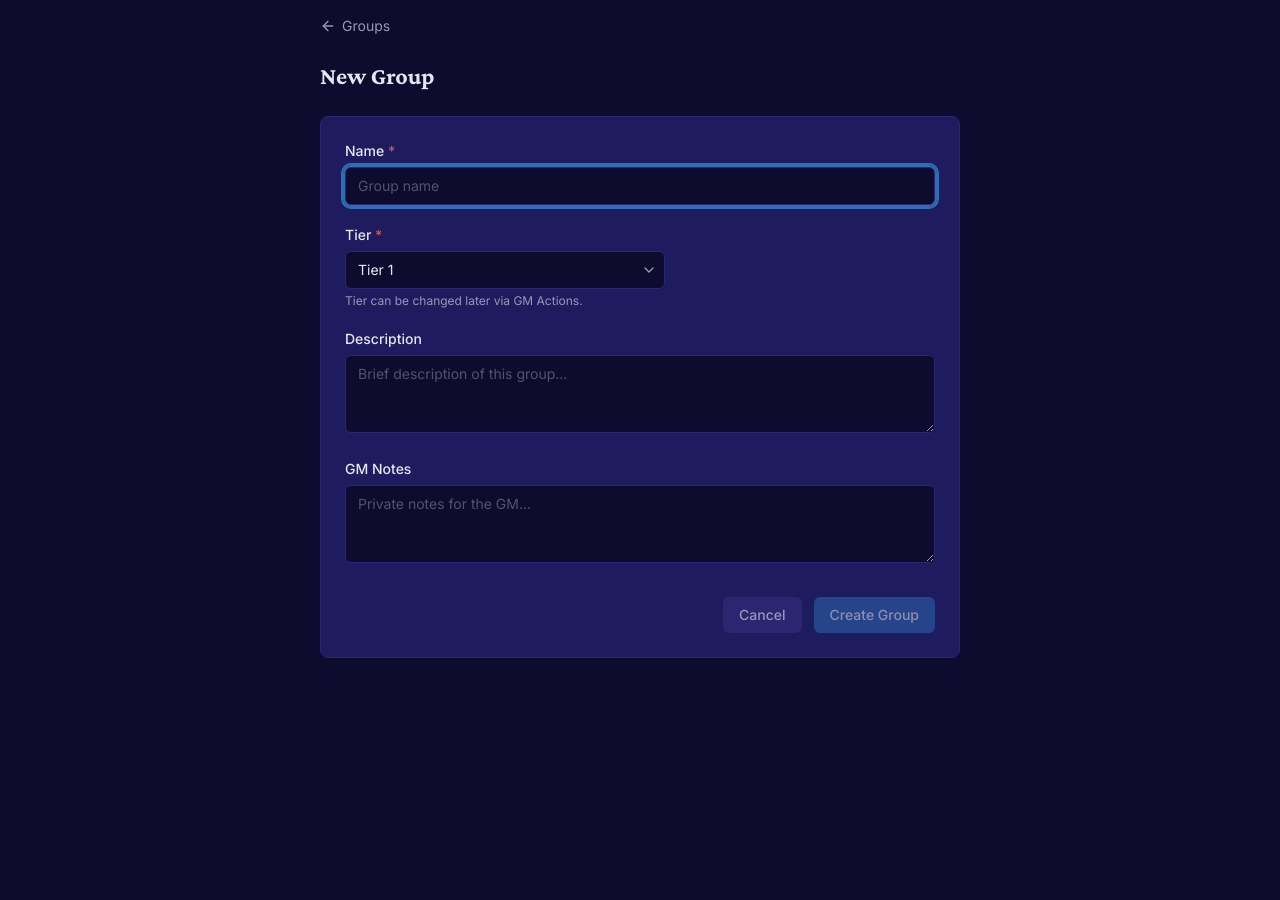
world-browser: GM create group CRUD flow › shows error toast when create fails
In the field labelled "Name *": (640, 186) [345,167,935,205], type "Broken Group"
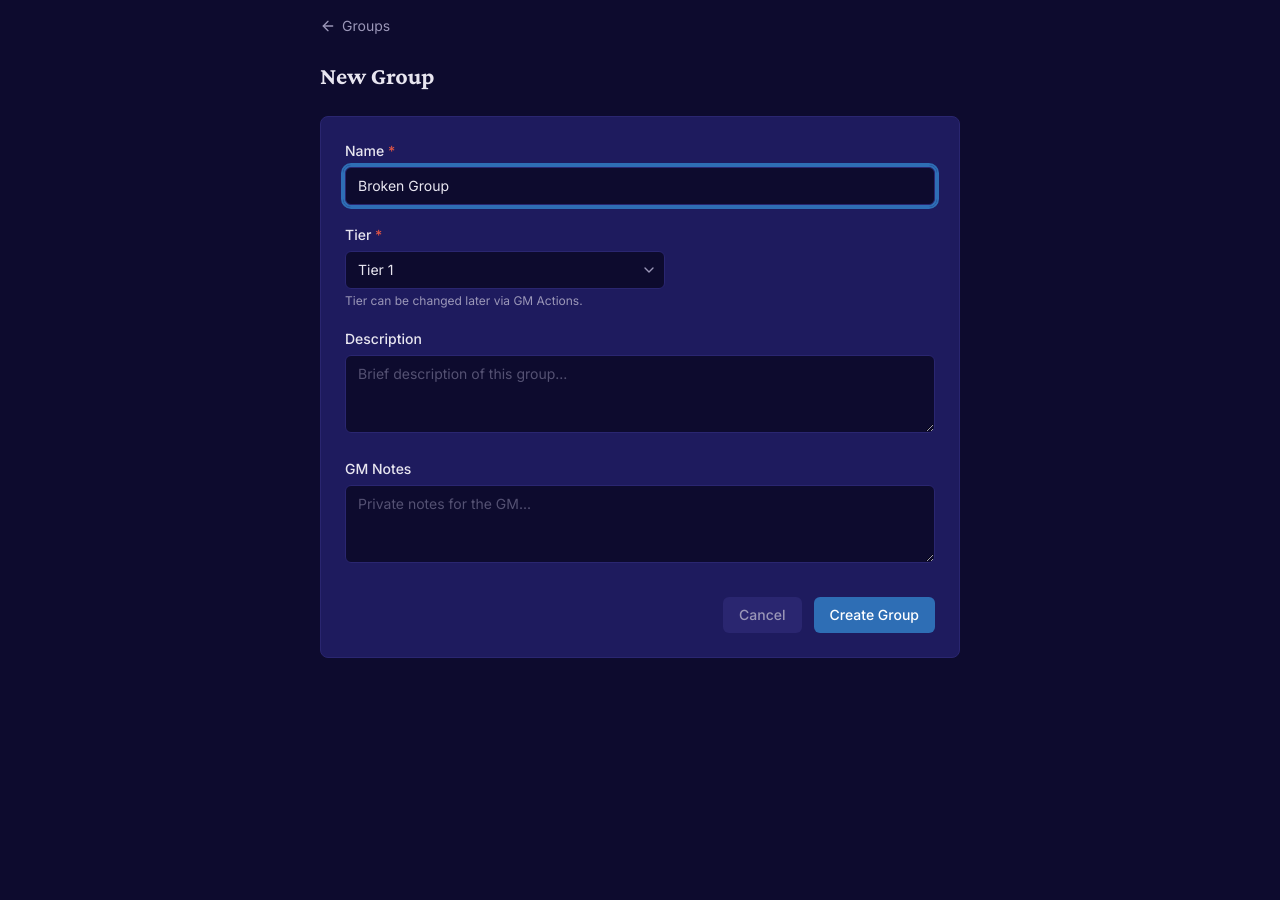
Click the button "Create Group": (874, 615) [814,597,935,633]
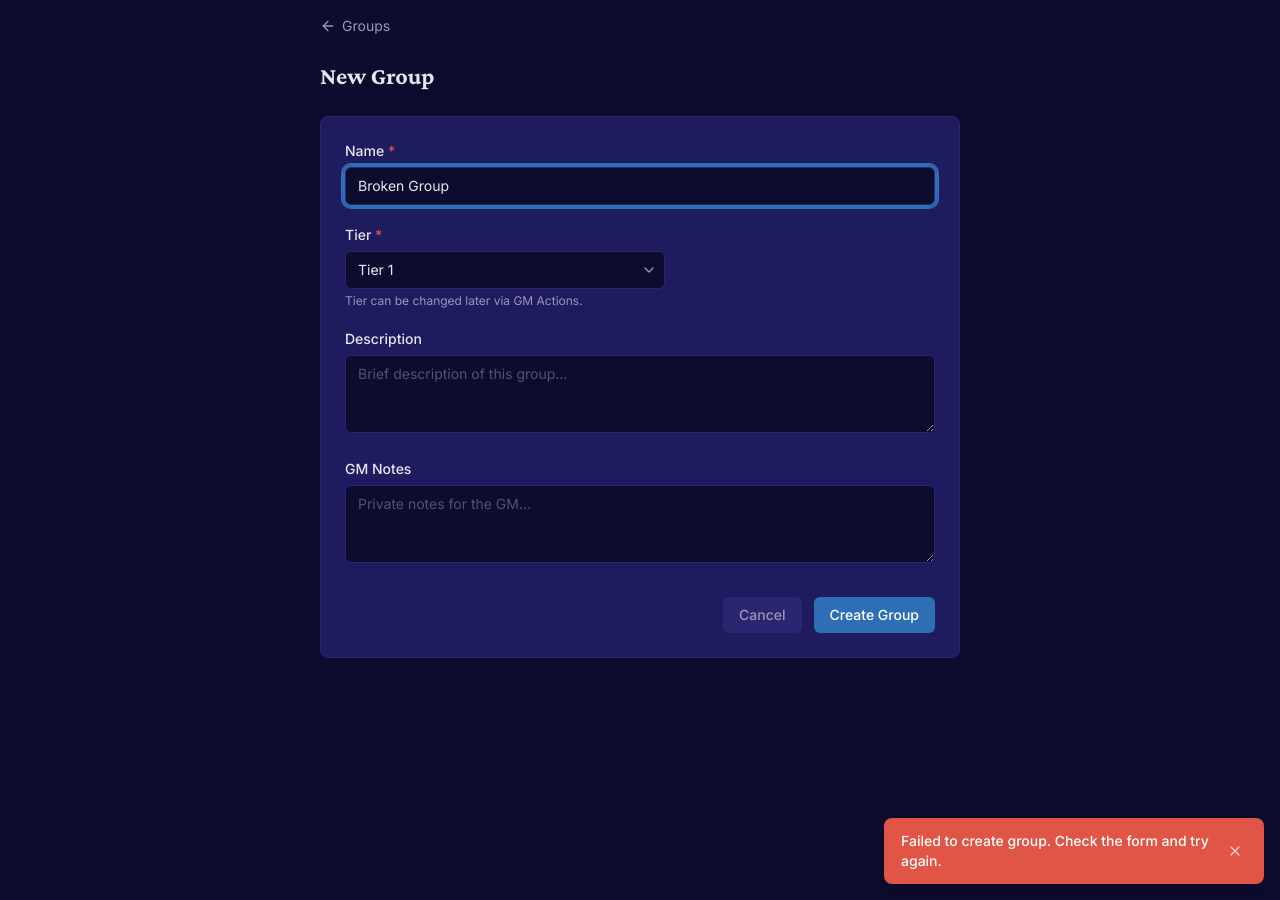
Now the text "Failed to create group. Check the form and try again." is shown, box [901,831,1211,871]
